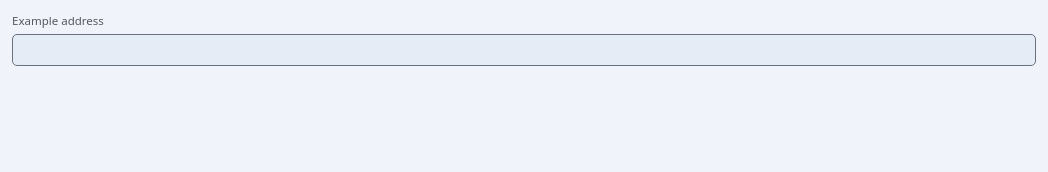
says in the browser's words what the browser finds wrong, once Enter is pressed
The image size is (1048, 172).
Click the field labelled "Example address". click: (524, 50)
box: [12,34,1036,66]
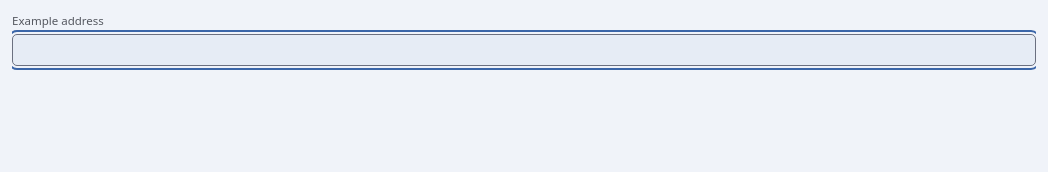
Type keys "example"
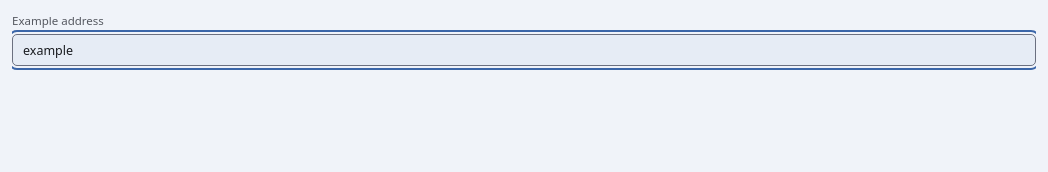
Press Enter
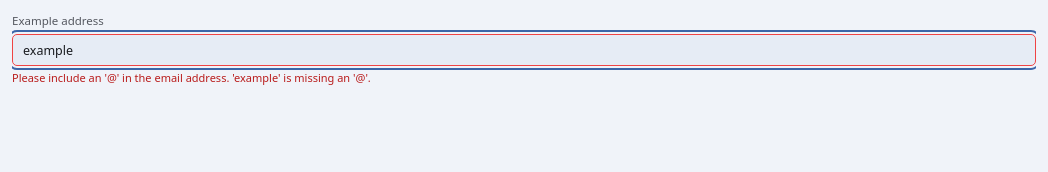
Type keys "@example.org{Enter}"
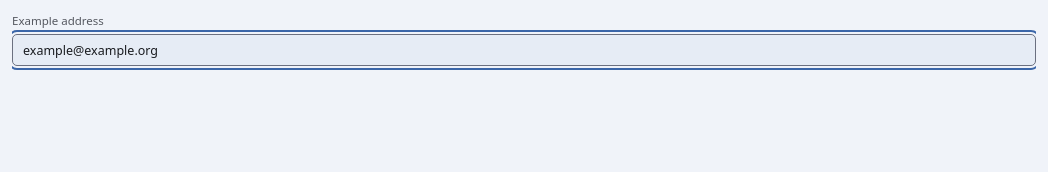
Result: the field labelled "Example address" does not have attribute aria-invalid at [12,34,1036,66]
Result: the field labelled "Example address" does not have attribute aria-describedby at [12,34,1036,66]
